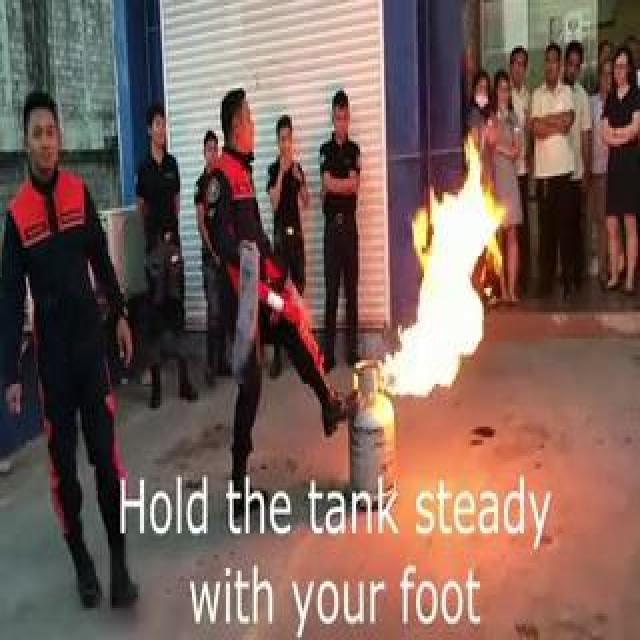Smoke: (404, 85, 476, 408)
